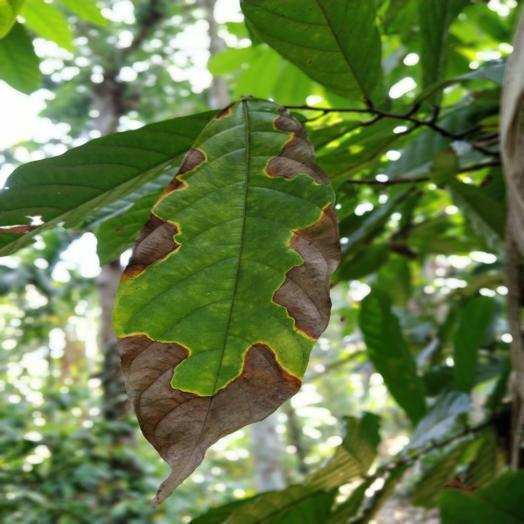Potassium: (114, 98, 339, 502)
